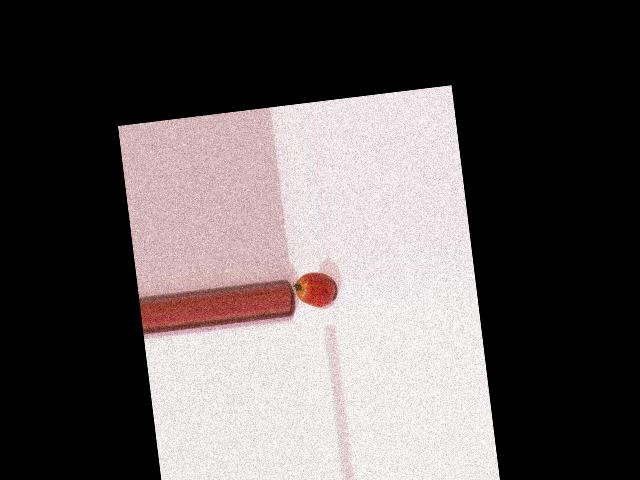tomato: (293, 270, 336, 310)
